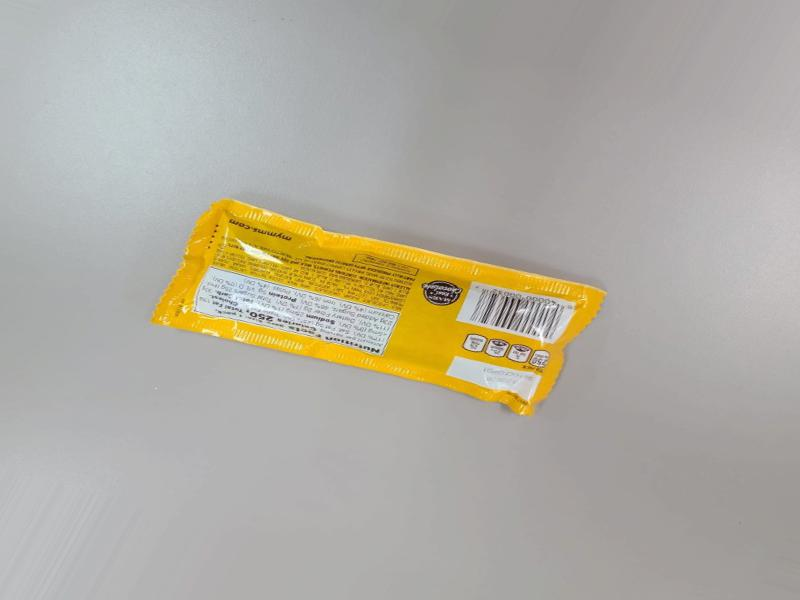m&m: (135, 186, 626, 400)
